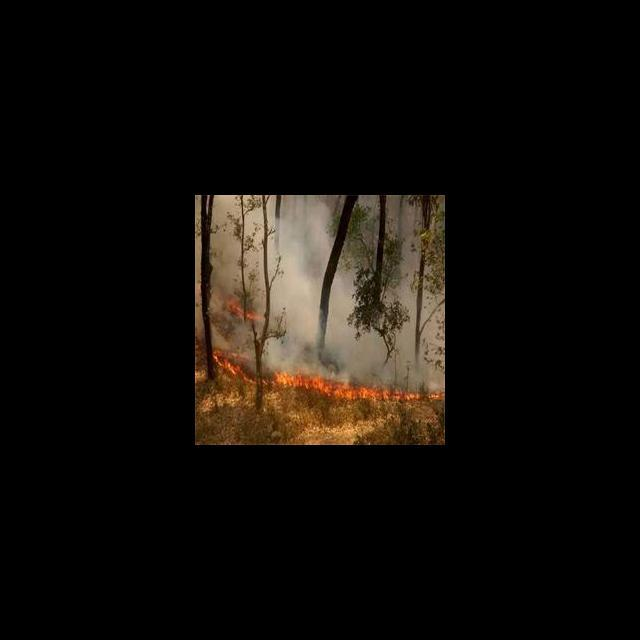Fire: (205, 346, 442, 404), (224, 294, 266, 320)
Smoke: (274, 198, 444, 368)
